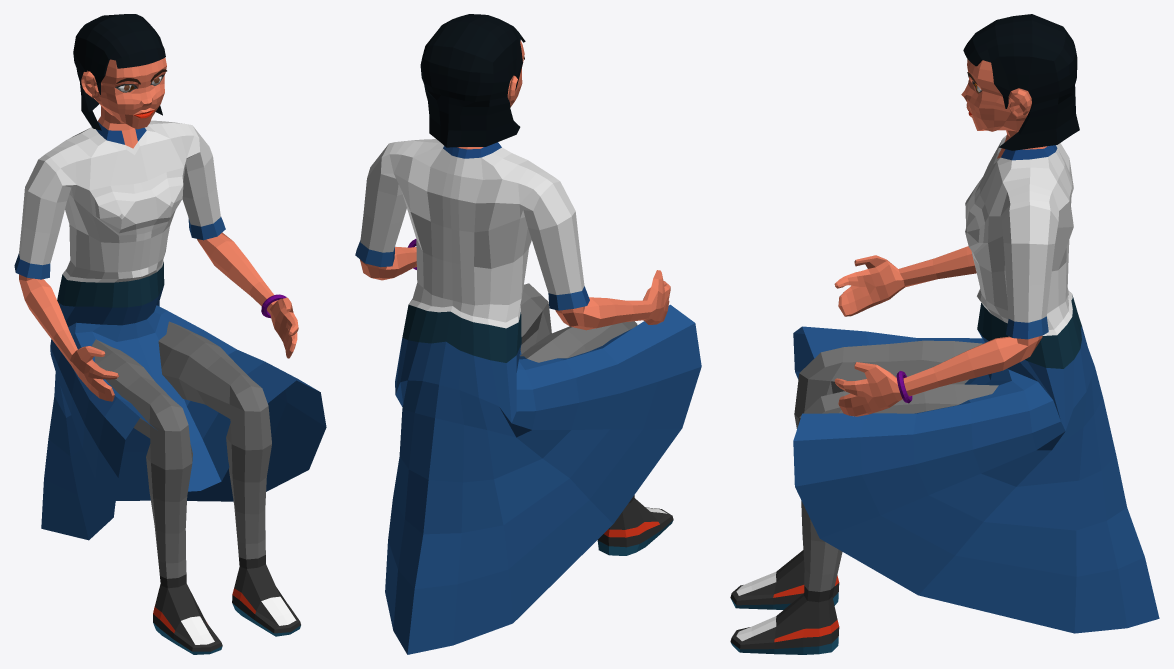
File: StudentFemale_Sit.fbx
3 renders of one model, left to right at view 1: azimuth 30°, elevation 25°; view 2: azimuth 150°, elevation 25°; view 3: azimuth 270°, elevation 25°, orthographic. The views are drawn at different scales.
Visible parts, largest first — view 1: StudentFemale_Sit; view 2: StudentFemale_Sit; view 3: StudentFemale_Sit.
Part boxes in pixels (x1,y1,x2,y2): StudentFemale_Sit: (14, 14, 326, 654); StudentFemale_Sit: (355, 14, 701, 654); StudentFemale_Sit: (730, 14, 1159, 654).
Size of the model in its own units: 0.2686 by 0.6209 by 0.4004.
